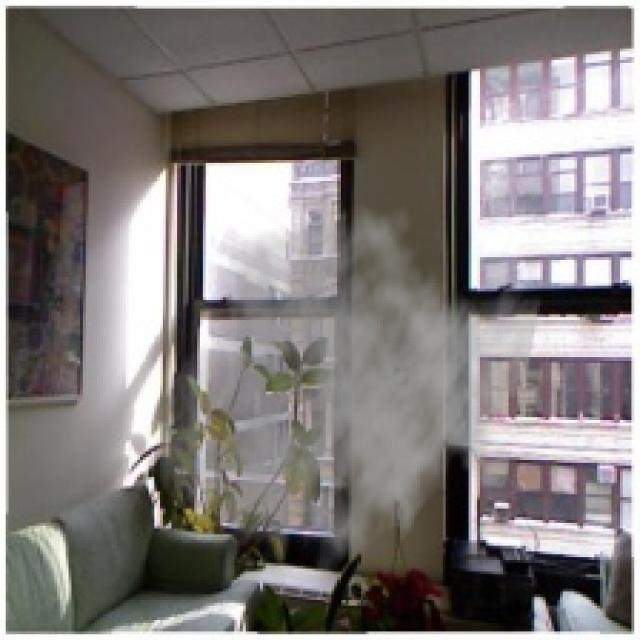smoke: (151, 186, 543, 603)
